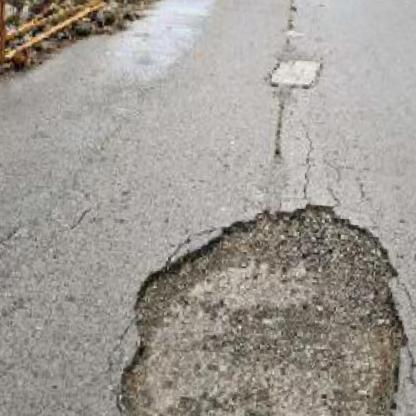pothole: (103, 179, 416, 416)
